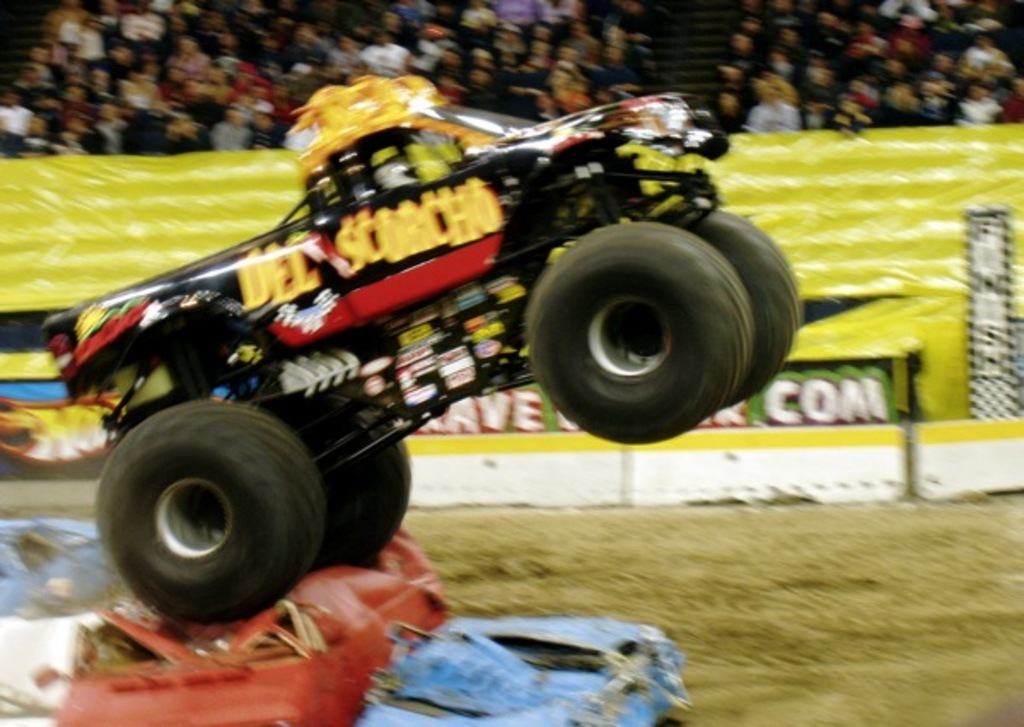Person: (0, 0, 1024, 157)
